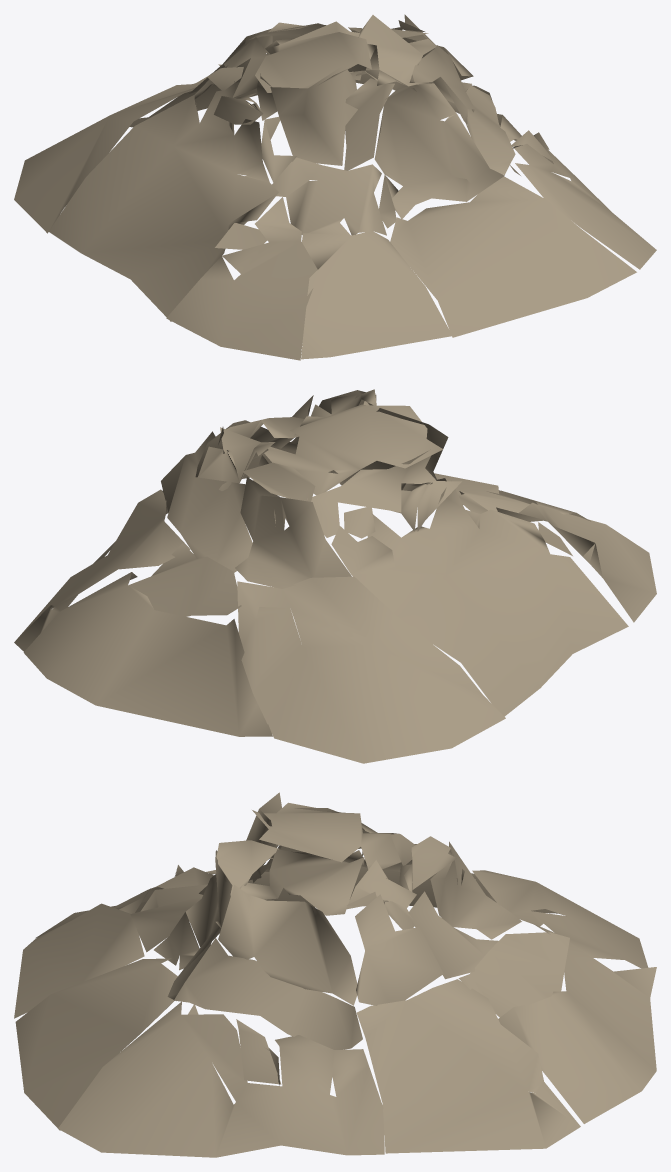
File: stump-old-lod1.glb
The picture shows the model from 3 angles, top to bottom: view 1: azimuth 30°, elevation 25°; view 2: azimuth 150°, elevation 25°; view 3: azimuth 270°, elevation 25°; orthographic projection. The views are drawn at different scales.
Parts seen in each view (by area): view 1: stump-old; view 2: stump-old; view 3: stump-old.
Boxes of the visible parts, x1,y1,x2,y2 form: stump-old: [14, 14, 656, 360]; stump-old: [14, 389, 656, 763]; stump-old: [14, 792, 656, 1157].
Bounding box in the file's own units: 1.43 × 0.5714 × 1.59.
